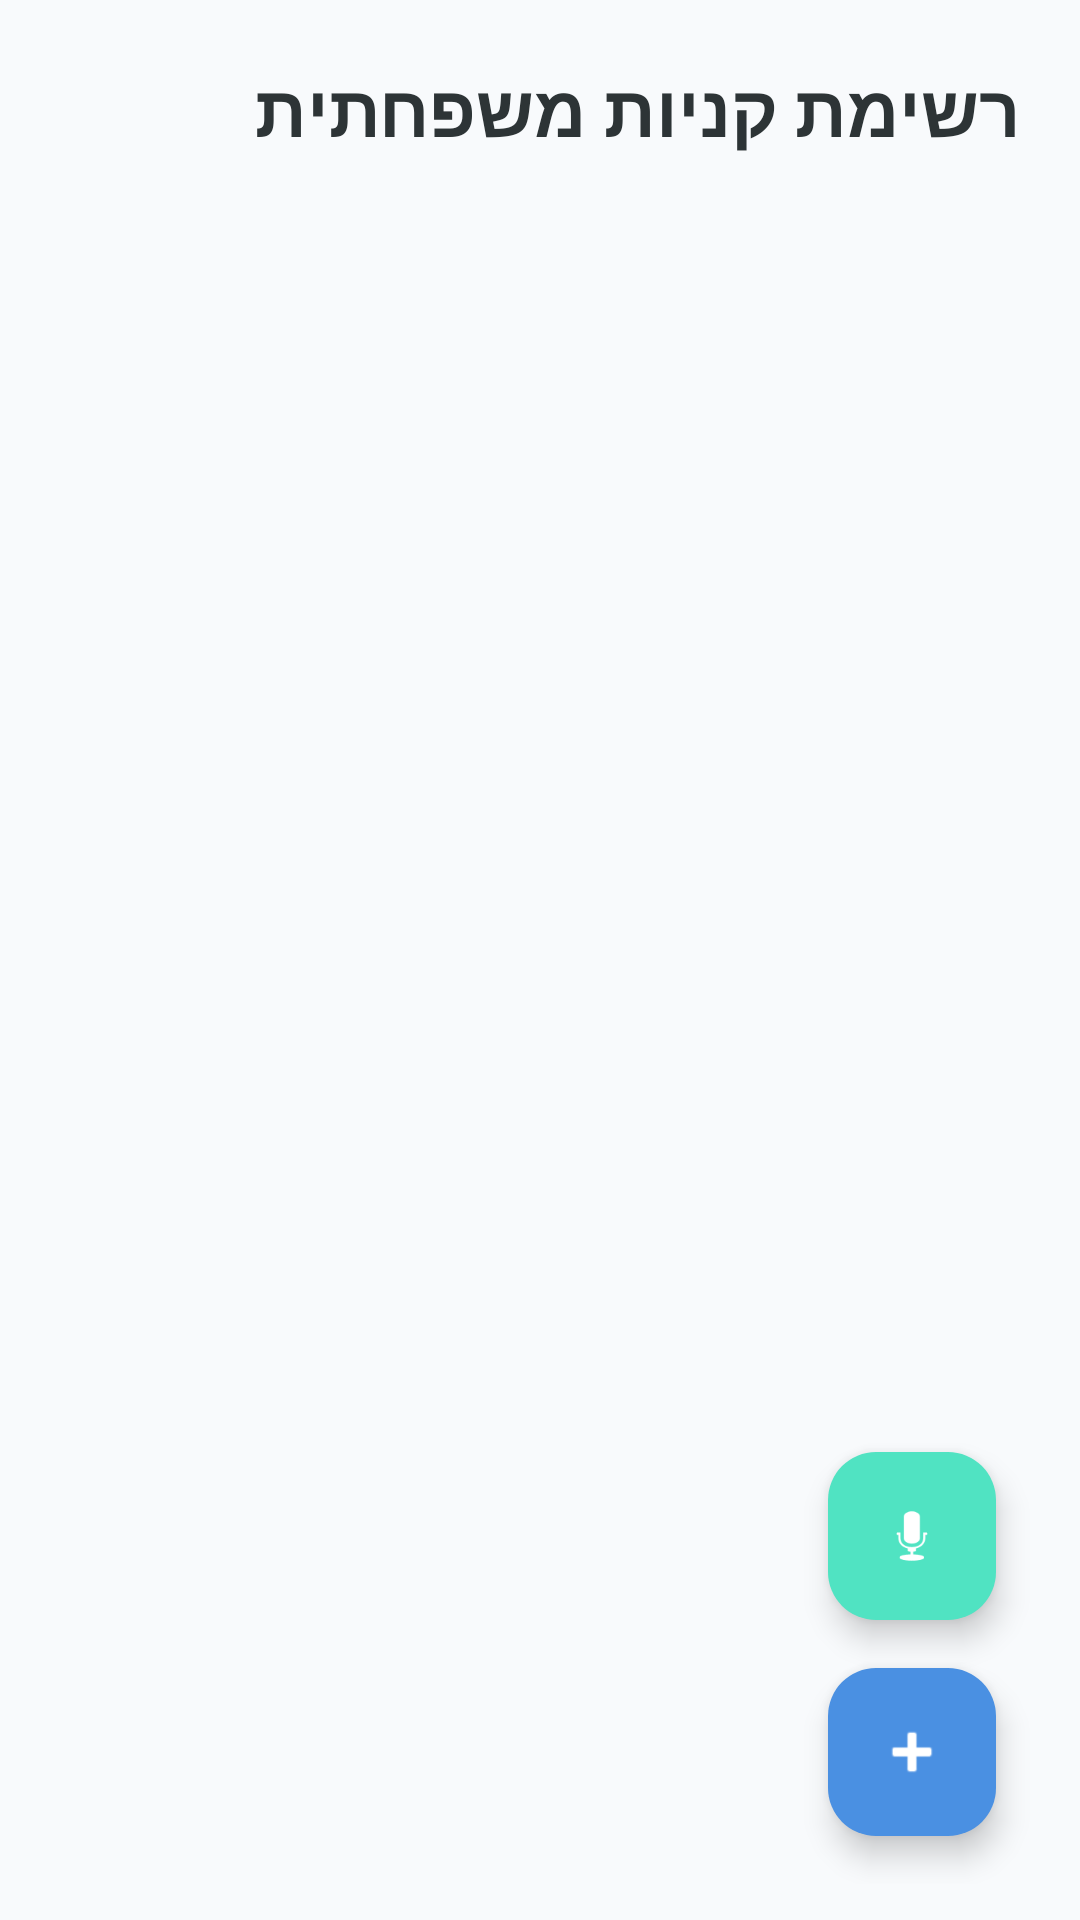

Locate icon controls on the screen. Image size 1080px x 1920px, boxes as rect(x1, y1, x2, y2).
add: rect(828, 1668, 996, 1836)
speak now: rect(828, 1452, 996, 1620)
